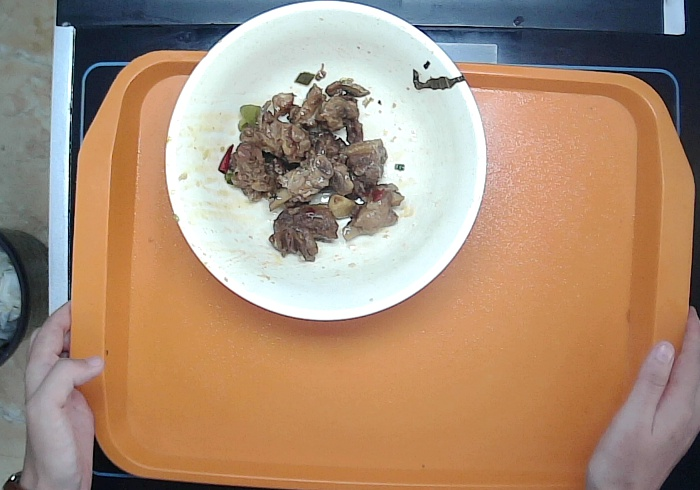ZNLD-Da_Tang_Wan: (155, 1, 497, 325)
